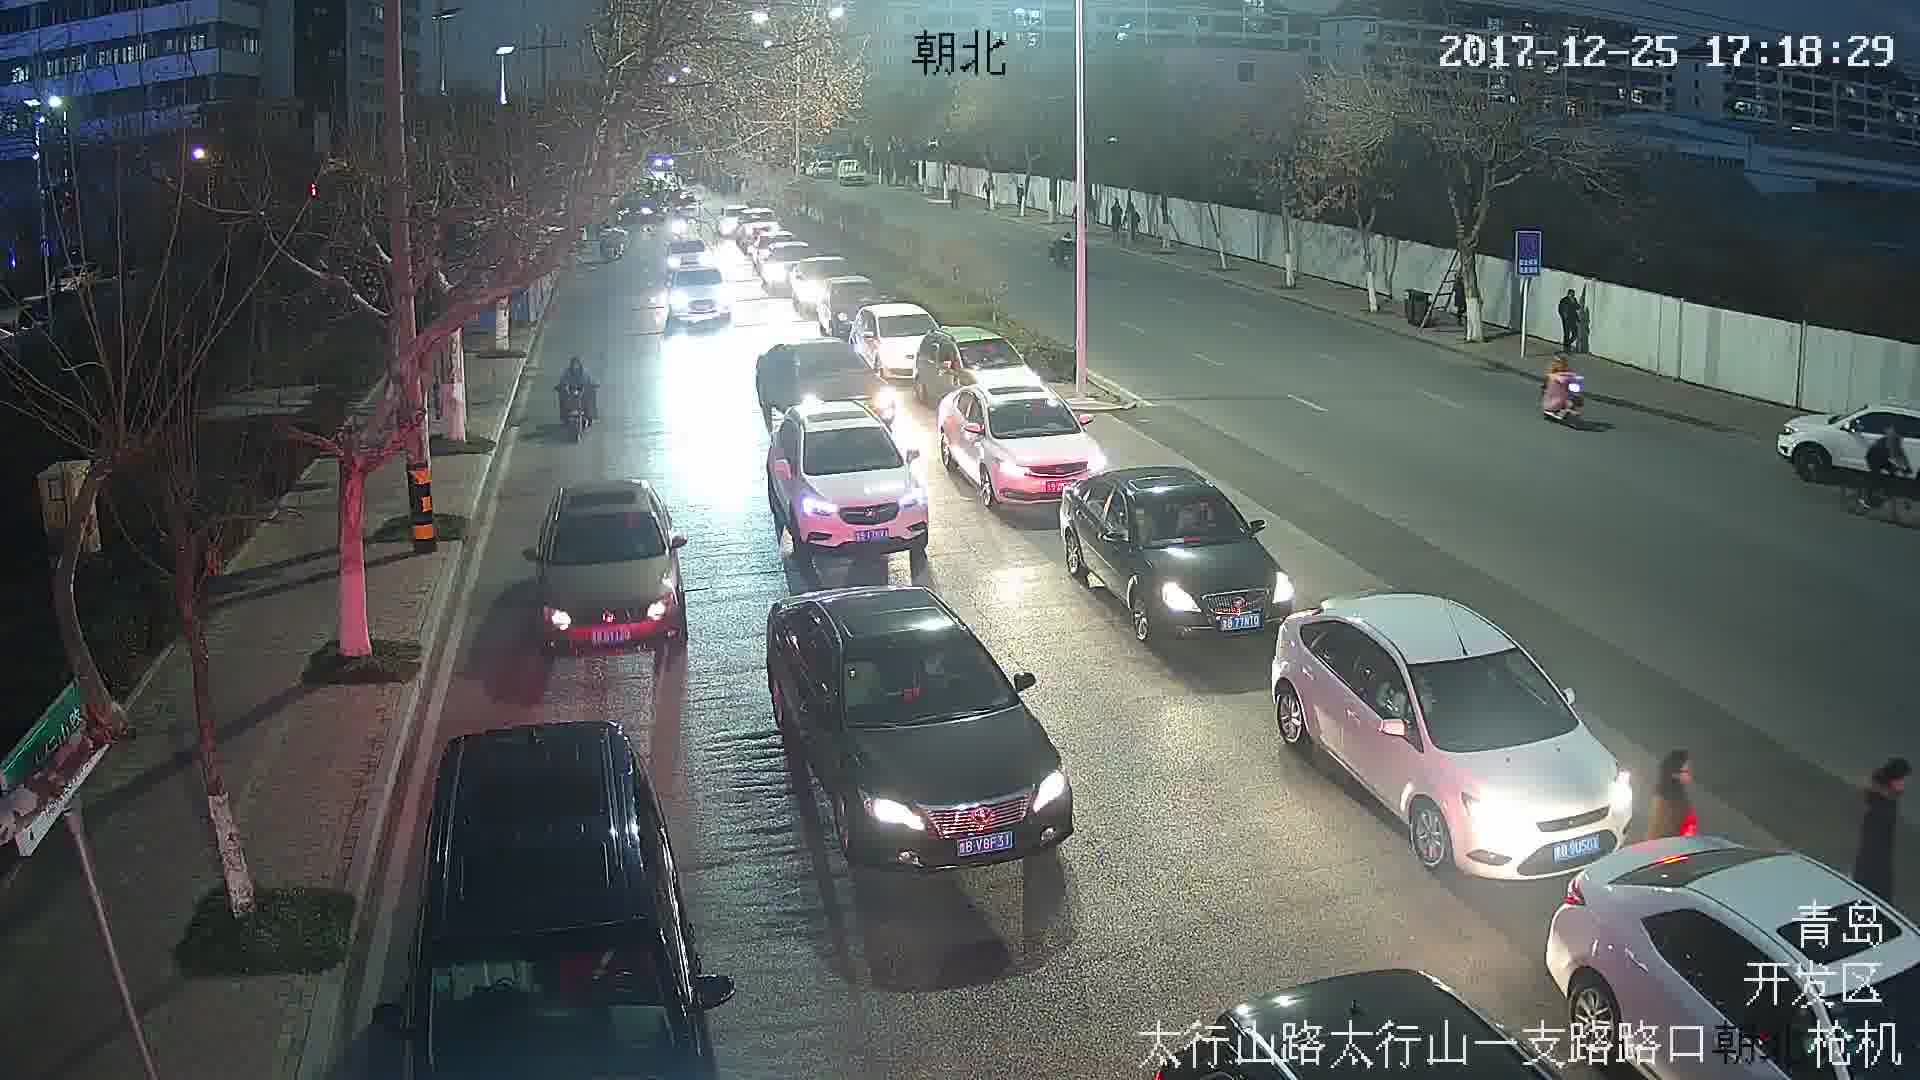car: (1271, 595, 1646, 881), (767, 580, 1077, 870), (1062, 467, 1293, 637), (524, 475, 689, 653), (767, 403, 930, 555), (937, 391, 1116, 498), (666, 266, 732, 325)
person: (1862, 755, 1909, 892), (555, 356, 596, 438), (1655, 742, 1695, 821), (1867, 428, 1913, 492), (1546, 350, 1577, 417), (1557, 287, 1589, 348)
